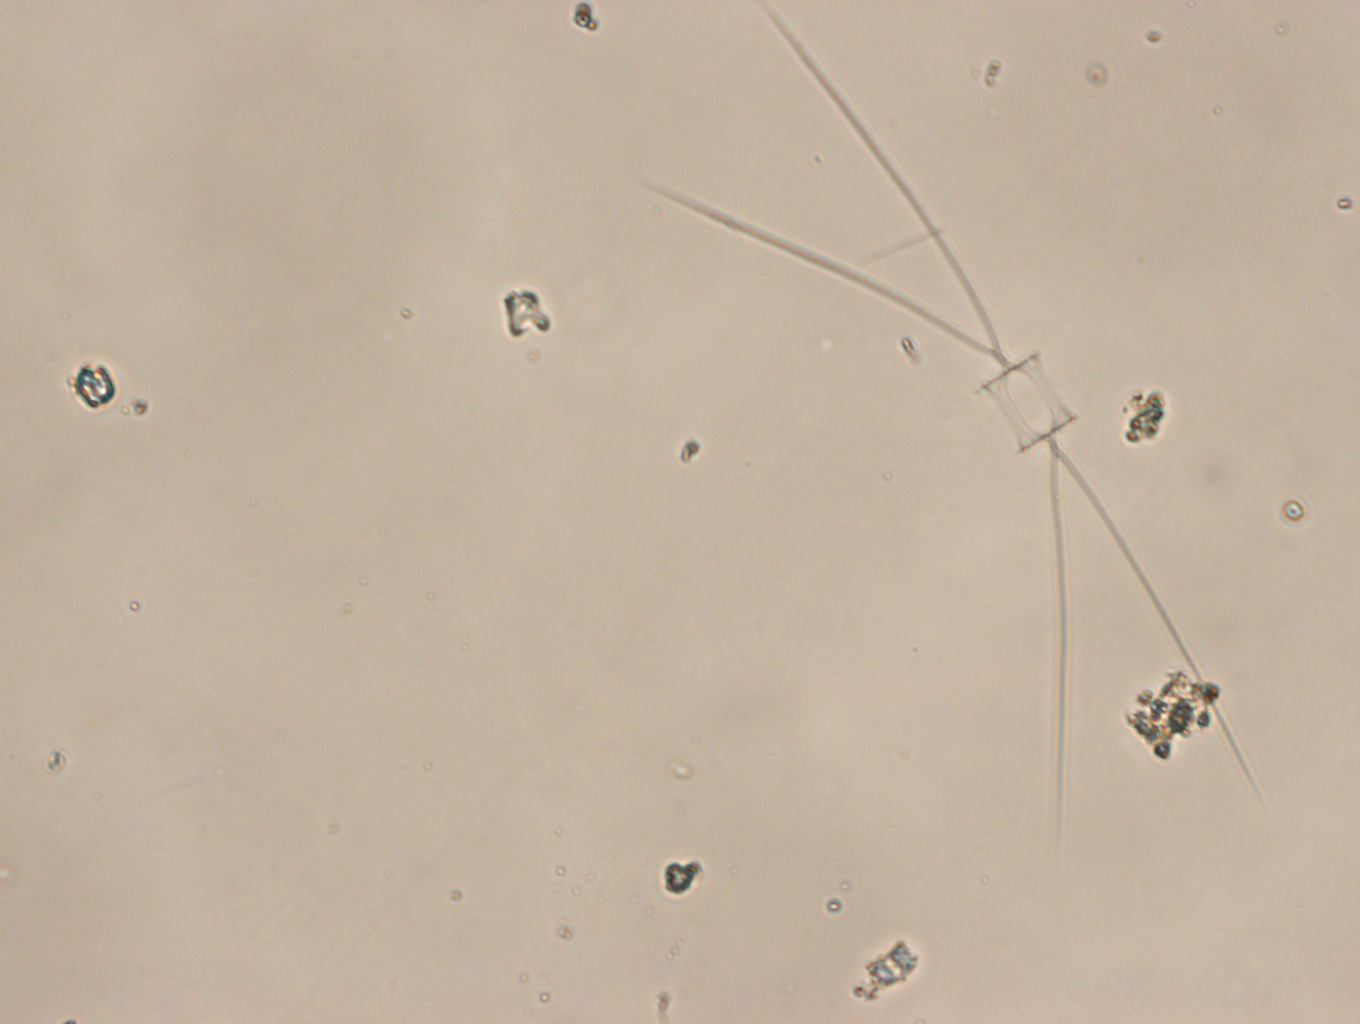chaetoceros: (618, 1, 1275, 845)
